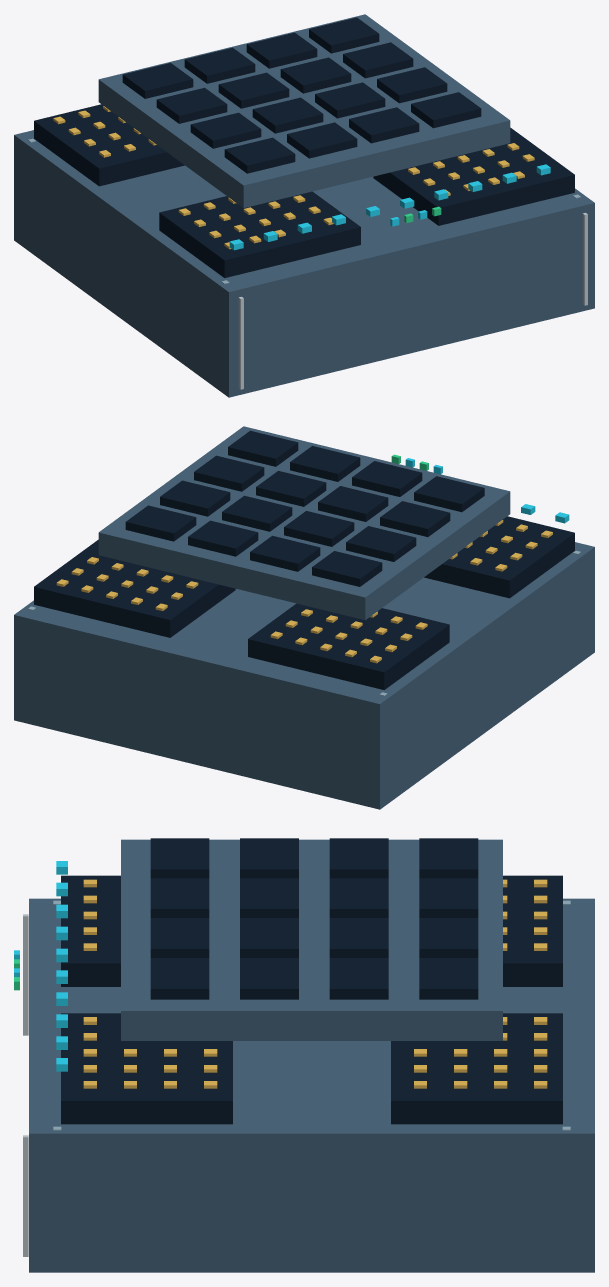
Rendered from 05_L79_PrecisionChipletTray.fbx.
3 renders of one model, top to bottom at view 1: azimuth 30°, elevation 25°; view 2: azimuth 150°, elevation 25°; view 3: azimuth 270°, elevation 25°, orthographic. The views are drawn at different scales.
Parts seen in each view (by area): view 1: PrecisionChipletTray, PrecisionChipletTray_Part_0101, PrecisionChipletTray_Part_0104, PrecisionChipletTray_Part_0106, PrecisionChipletTray_Part_0108, PrecisionChipletTray_Part_0103, PrecisionChipletTray_Part_0107, PrecisionChipletTray_Part_0110, PrecisionChipletTray_Part_0111, PrecisionChipletTray_Part_0102, PrecisionChipletTray_Part_0105, PrecisionChipletTray_Part_0109 (+6 smaller); view 2: PrecisionChipletTray, PrecisionChipletTray_Part_0101, PrecisionChipletTray_Part_0114, PrecisionChipletTray_Part_0106, PrecisionChipletTray_Part_0107, PrecisionChipletTray_Part_0110, PrecisionChipletTray_Part_0115, PrecisionChipletTray_Part_0111, PrecisionChipletTray_Part_0112, PrecisionChipletTray_Part_0116, PrecisionChipletTray_Part_0117, PrecisionChipletTray_Part_0103 (+6 smaller); view 3: PrecisionChipletTray, PrecisionChipletTray_Part_0101, PrecisionChipletTray_Part_0114, PrecisionChipletTray_Part_0115, PrecisionChipletTray_Part_0117, PrecisionChipletTray_Part_0116, PrecisionChipletTray_Part_0102, PrecisionChipletTray_Part_0103, PrecisionChipletTray_Part_0105, PrecisionChipletTray_Part_0104, PrecisionChipletTray_Part_0106, PrecisionChipletTray_Part_0107 (+6 smaller).
Boxes of the visible parts, left/top/right/bottom form: PrecisionChipletTray: left=14, top=104, right=594, bottom=397; PrecisionChipletTray_Part_0101: left=98, top=14, right=510, bottom=208; PrecisionChipletTray_Part_0104: left=190, top=112, right=261, bottom=148; PrecisionChipletTray_Part_0106: left=184, top=47, right=255, bottom=83; PrecisionChipletTray_Part_0108: left=252, top=97, right=323, bottom=133; PrecisionChipletTray_Part_0103: left=156, top=87, right=227, bottom=123; PrecisionChipletTray_Part_0107: left=218, top=72, right=289, bottom=108; PrecisionChipletTray_Part_0110: left=246, top=32, right=317, bottom=68; PrecisionChipletTray_Part_0111: left=280, top=57, right=351, bottom=93; PrecisionChipletTray_Part_0102: left=122, top=63, right=193, bottom=98; PrecisionChipletTray_Part_0105: left=224, top=137, right=295, bottom=173; PrecisionChipletTray_Part_0109: left=287, top=122, right=357, bottom=158; PrecisionChipletTray: left=14, top=454, right=594, bottom=809; PrecisionChipletTray_Part_0101: left=98, top=426, right=510, bottom=620; PrecisionChipletTray_Part_0114: left=125, top=505, right=196, bottom=541; PrecisionChipletTray_Part_0106: left=250, top=535, right=320, bottom=571; PrecisionChipletTray_Part_0107: left=284, top=511, right=354, bottom=546; PrecisionChipletTray_Part_0110: left=188, top=520, right=258, bottom=556; PrecisionChipletTray_Part_0115: left=160, top=480, right=230, bottom=516; PrecisionChipletTray_Part_0111: left=222, top=495, right=292, bottom=531; PrecisionChipletTray_Part_0112: left=256, top=471, right=326, bottom=506; PrecisionChipletTray_Part_0116: left=194, top=455, right=264, bottom=491; PrecisionChipletTray_Part_0117: left=228, top=430, right=298, bottom=466; PrecisionChipletTray_Part_0103: left=346, top=526, right=416, bottom=561; PrecisionChipletTray: left=14, top=861, right=594, bottom=1272; PrecisionChipletTray_Part_0101: left=121, top=839, right=502, bottom=1040; PrecisionChipletTray_Part_0114: left=419, top=958, right=478, bottom=999; PrecisionChipletTray_Part_0115: left=329, top=958, right=388, bottom=999; PrecisionChipletTray_Part_0117: left=150, top=958, right=209, bottom=999; PrecisionChipletTray_Part_0116: left=240, top=958, right=298, bottom=999; PrecisionChipletTray_Part_0102: left=419, top=838, right=478, bottom=878; PrecisionChipletTray_Part_0103: left=329, top=838, right=388, bottom=878; PrecisionChipletTray_Part_0105: left=150, top=838, right=209, bottom=878; PrecisionChipletTray_Part_0104: left=240, top=838, right=298, bottom=878; PrecisionChipletTray_Part_0106: left=419, top=878, right=478, bottom=917; PrecisionChipletTray_Part_0107: left=329, top=878, right=388, bottom=917.
Bounding box in the file's own units: 236 × 112 × 246.
